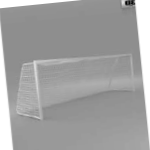goals: (16, 51, 136, 121)
